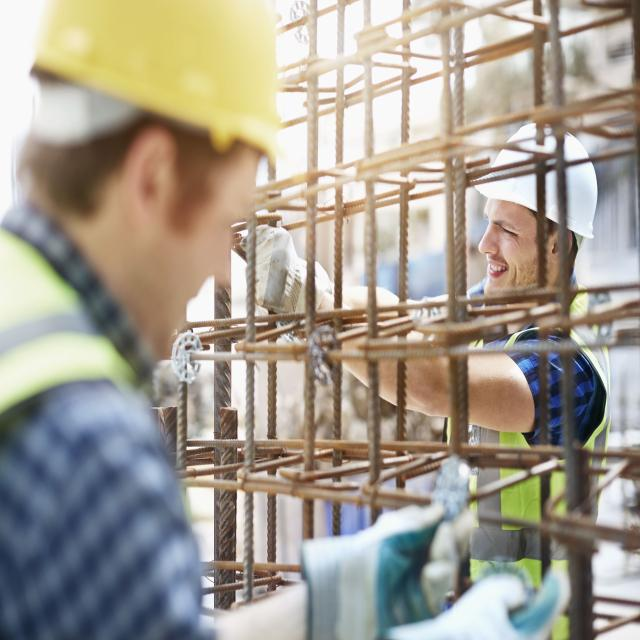Reflective-Jacket: (462, 309, 614, 640), (0, 213, 140, 448)
Safety-Helmet: (23, 0, 295, 158), (472, 117, 600, 241)
